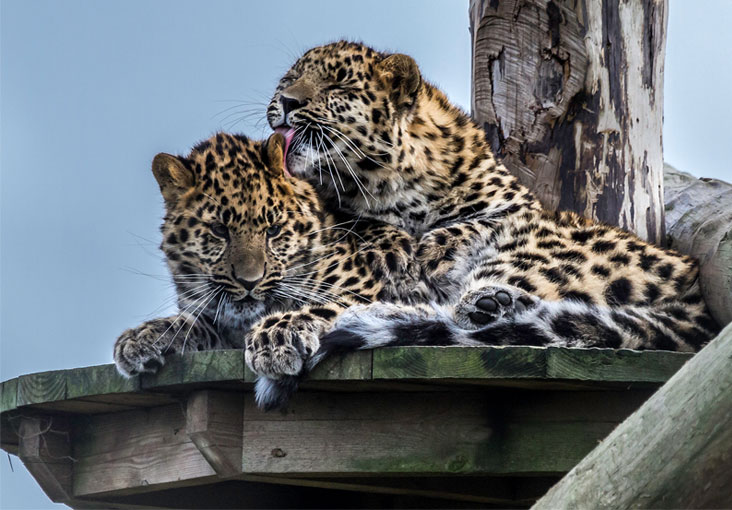amur_leopard: (126, 139, 328, 316), (243, 24, 440, 175)
